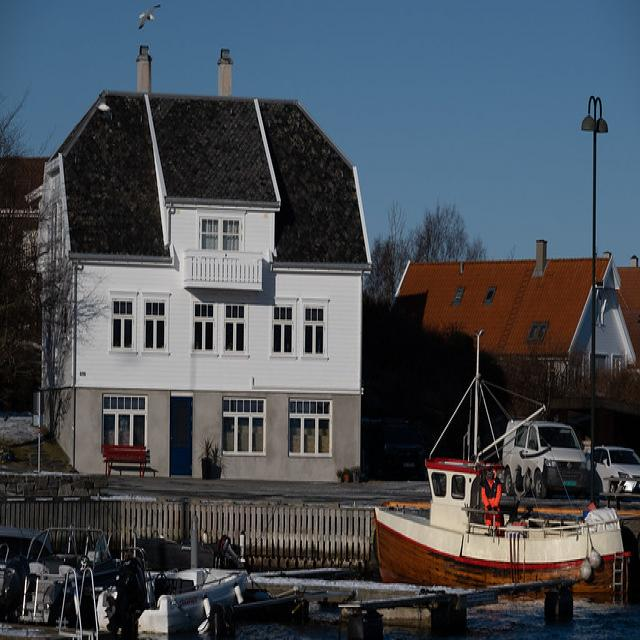Normal_building: (34, 46, 374, 486), (388, 250, 640, 483)
